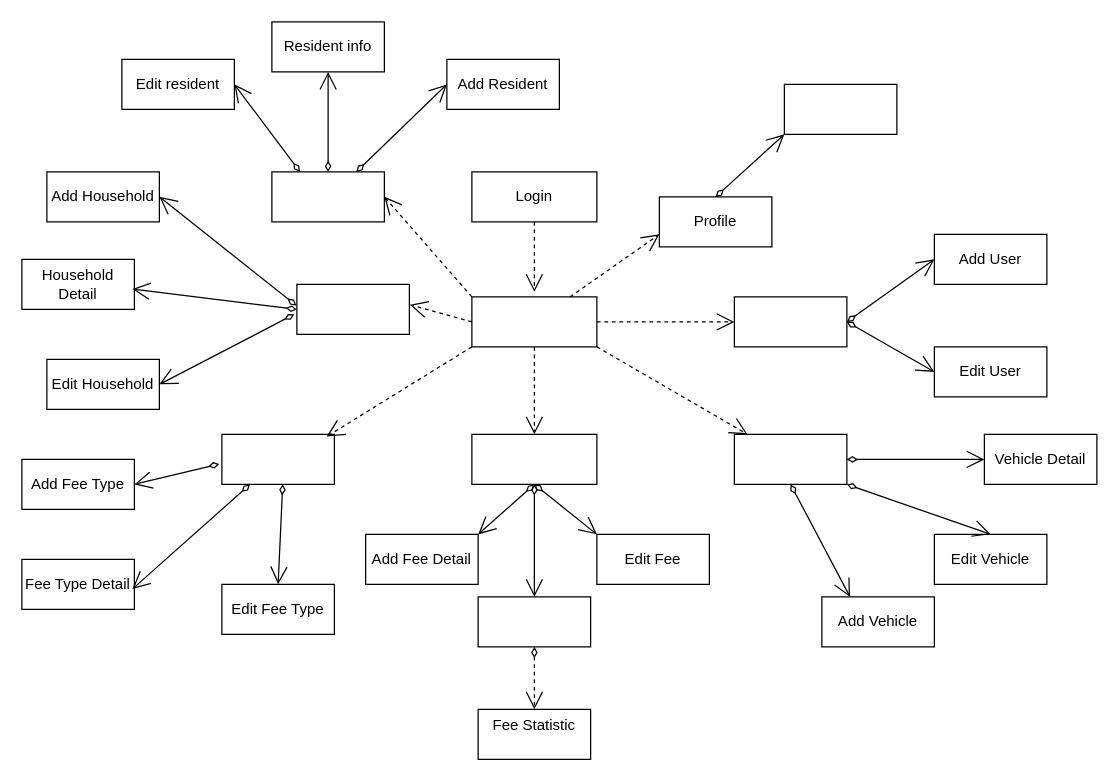
The diagram is 1119 pixels wide and 781 high, and some of its shapes have lost their labels. The centre of each missing label's shape, as x and y in pixels:
Fee: (x=534, y=458)
Fee Detail: (x=534, y=621)
Fee Type: (x=277, y=458)
Home: (x=534, y=321)
Household: (x=352, y=308)
Resident: (x=327, y=196)
Update Profile: (x=840, y=108)
User Management: (x=790, y=321)
Vehicle: (x=790, y=458)
